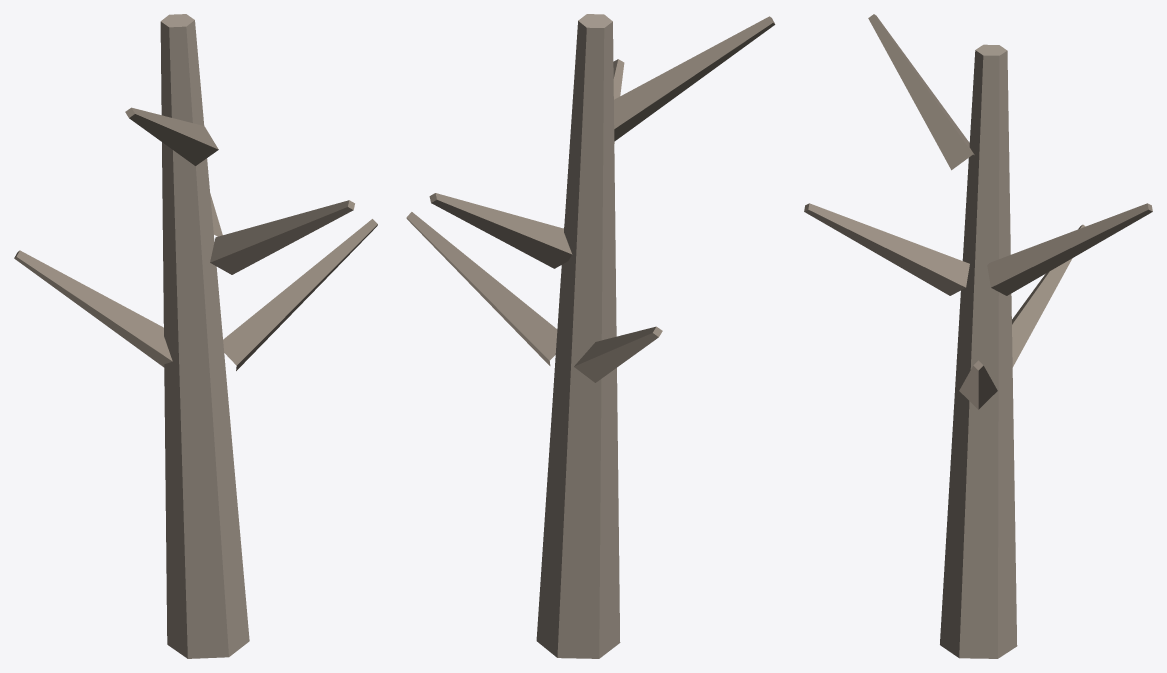
The model's file is deadtree_v06.glb.
The picture shows the model from 3 angles, left to right: view 1: azimuth 30°, elevation 25°; view 2: azimuth 150°, elevation 25°; view 3: azimuth 270°, elevation 25°; orthographic projection. The views are drawn at different scales.
Visible parts, largest first — view 1: lod0; view 2: lod0; view 3: lod0.
Part boxes in pixels (x1=…): lod0: x1=14, y1=14, x2=377, y2=658; lod0: x1=406, y1=14, x2=775, y2=658; lod0: x1=804, y1=14, x2=1152, y2=658.
Size of what is drawn, in the model's own units: 1.65 by 3.21 by 1.73.
